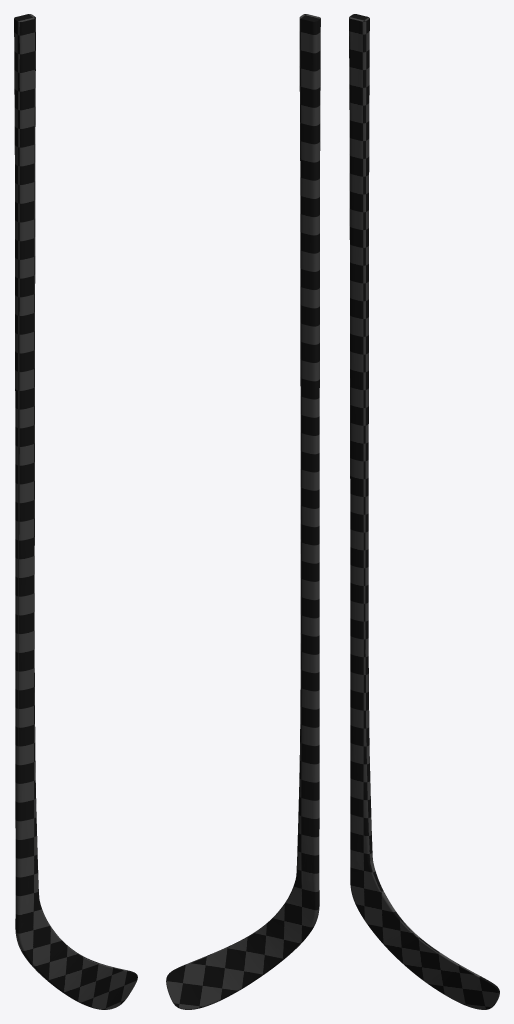
Rendered from P105-SBO.glb.
3 views of the same model, side by side, from view 1: azimuth 30°, elevation 25°; view 2: azimuth 150°, elevation 25°; view 3: azimuth 330°, elevation 25° (orthographic). The views are drawn at different scales.
Parts seen in each view (by area): view 1: geometry_0; view 2: geometry_0; view 3: geometry_0.
Boxes of the visible parts, bbox=[...] form: geometry_0: bbox=[14, 14, 137, 1009]; geometry_0: bbox=[166, 14, 320, 1009]; geometry_0: bbox=[349, 14, 499, 1009].
Size of the model in its own units: 233 by 1650 by 69.97.
1 material, 1 textured.
